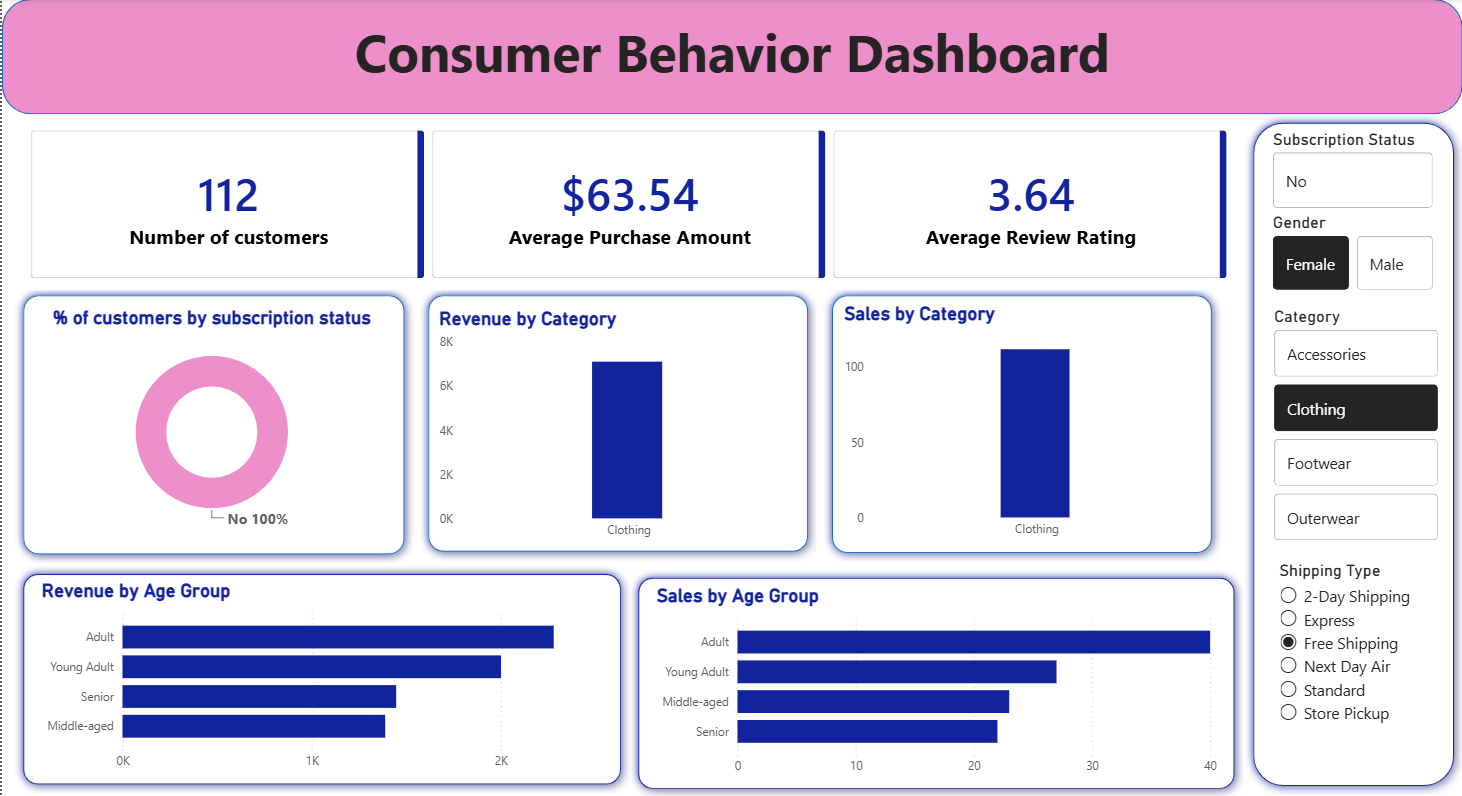

This screenshot's page, from the dashboard's own definition file:
{"tool":"powerbi","page":{"name":"Page 1","canvas":[1500,820],"ordinal":0},"visuals":[{"type":"shape","box":[0,0,1499.9,118.4],"z":0},{"type":"textbox","box":[0,12.5,1499.9,93.3],"z":1000},{"type":"shape","box":[12.5,295.2,409.4,284.1],"z":2000},{"type":"shape","box":[12.9,582.1,631.7,234.2],"z":2500,"group":"g1"},{"type":"donutChart","title":"% of customers by subscription status","fields":{"Category":["public customer.subscription_status"],"Y":["CountNonNull(public customer.customer_id)"]},"box":[26.5,316.1,377.4,236.8],"z":3000},{"type":"shape","box":[428.9,295.2,408.1,281.3],"z":4000},{"type":"clusteredColumnChart","title":"Revenue by Category","fields":{"Y":["Sum(public customer.purchase_amount)"],"Category":["public customer.category"]},"box":[444.3,317.5,376,246.5],"z":5000},{"type":"shape","box":[844,295.2,408.1,282.7],"z":6000},{"type":"clusteredColumnChart","title":"Sales by Category","fields":{"Y":["CountNonNull(public customer.customer_id)"],"Category":["public customer.category"]},"box":[860.7,312,376,250.7],"z":7000},{"type":"group","id":"g1","title":"Group 1","box":[12.9,582.1,632,234.8],"z":8000},{"type":"shape","box":[644.8,585.3,630.4,234.8],"z":9000},{"type":"clusteredBarChart","title":"Sales by Age Group","fields":{"Y":["CountNonNull(public customer.customer_id)"],"Category":["public customer.age_group"]},"box":[667.3,601.4,585.3,204.2],"z":10000},{"type":"shape","box":[1275.7,118.4,224.2,699.1],"z":11000},{"type":"advancedSlicerVisual","fields":{"Values":["public customer.subscription_status"]},"box":[1300.8,133.7,174.1,86.3],"z":12000},{"type":"advancedSlicerVisual","fields":{"Values":["public customer.gender"]},"box":[1300.8,220,174.1,85],"z":13000},{"type":"advancedSlicerVisual","fields":{"Values":["public customer.category"]},"box":[1302.1,316.1,178.3,247.9],"z":14000},{"type":"listSlicer","fields":{"Values":["public customer.shipping_type"]},"box":[1306.3,576.6,168.5,225.6],"z":15000},{"type":"cardVisual","fields":{"Data":["public customer.Number of customers","public customer.Average Purchase Amount","public customer.Average Review Rating"]},"box":[12.5,118.4,1263.2,186.6],"z":16000},{"type":"clusteredBarChart","title":"Revenue by Age Group","fields":{"Y":["Sum(public customer.purchase_amount)"],"Category":["public customer.age_group"]},"box":[36,598.1,585.6,204.1],"z":17500,"group":"g1"}]}

Visuals, with their boxes in screenshot pixels (x1, y1, x2, y2), scaled from the page's 1500x820 canvas onto the 1462x796 screenshot:
shape: bbox(0, 0, 1461, 115)
textbox: bbox(0, 12, 1461, 103)
shape: bbox(12, 287, 411, 562)
shape: bbox(13, 565, 628, 792)
"% of customers by subscription status" donutChart: bbox(26, 307, 394, 537)
shape: bbox(418, 287, 816, 560)
"Revenue by Category" clusteredColumnChart: bbox(433, 308, 800, 547)
shape: bbox(823, 287, 1220, 561)
"Sales by Category" clusteredColumnChart: bbox(839, 303, 1205, 546)
"Group 1" group: bbox(13, 565, 629, 793)
shape: bbox(628, 568, 1243, 795)
"Sales by Age Group" clusteredBarChart: bbox(650, 584, 1221, 782)
shape: bbox(1243, 115, 1461, 794)
advancedSlicerVisual - public customer.subscription_status: bbox(1268, 130, 1438, 214)
advancedSlicerVisual - public customer.gender: bbox(1268, 214, 1438, 296)
advancedSlicerVisual - public customer.category: bbox(1269, 307, 1443, 547)
listSlicer - public customer.shipping_type: bbox(1273, 560, 1437, 779)
cardVisual - public customer.Number of customers x public customer.Average Purchase Amount: bbox(12, 115, 1243, 296)
"Revenue by Age Group" clusteredBarChart: bbox(35, 581, 606, 779)
